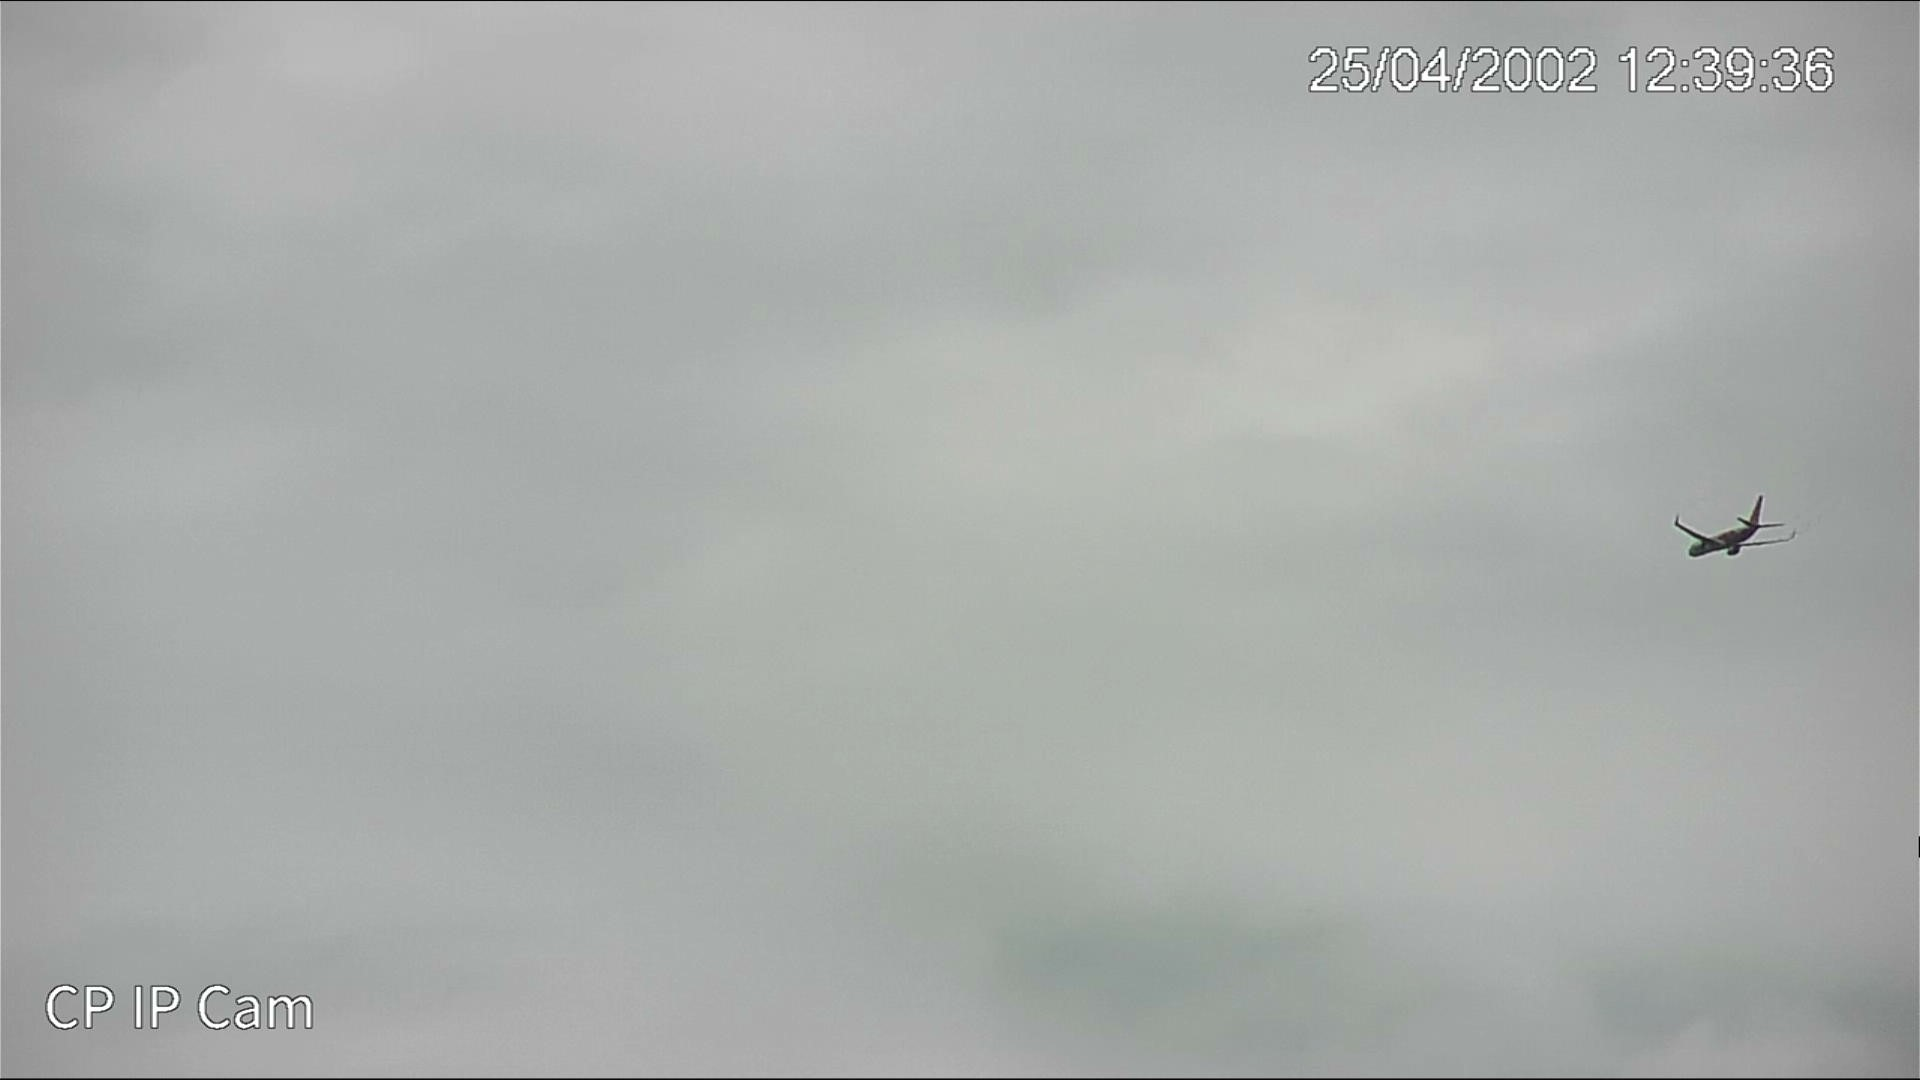SU_30: (1673, 496, 1788, 553)
